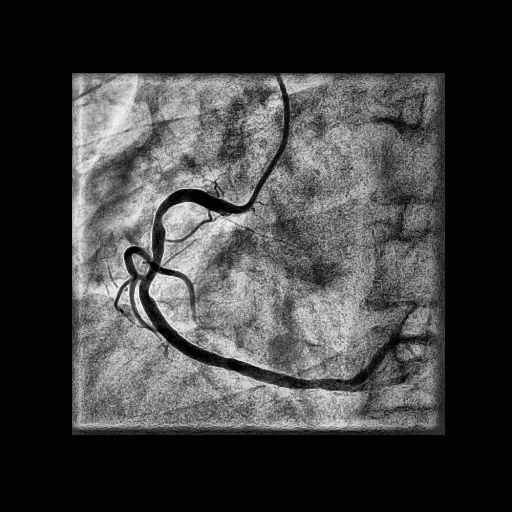pborca: (348, 334, 400, 383)
pda: (358, 377, 405, 391)
rca: (139, 190, 360, 392)
